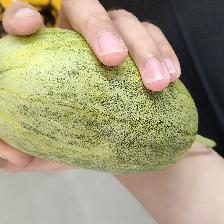gua: (2, 29, 204, 174)
